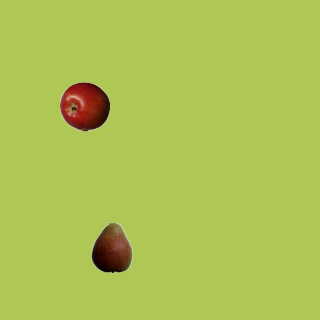Apple Braeburn: (59, 81, 109, 131)
Pear Forelle: (86, 222, 136, 272)
